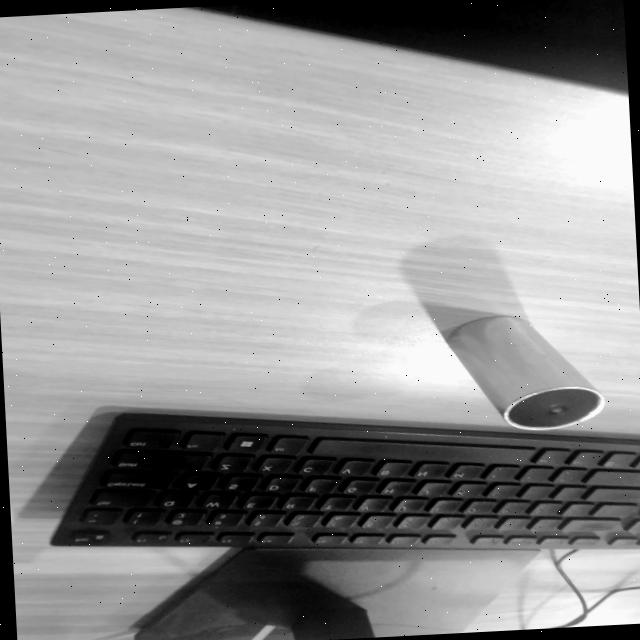Co_Lon: (431, 286, 609, 463)
